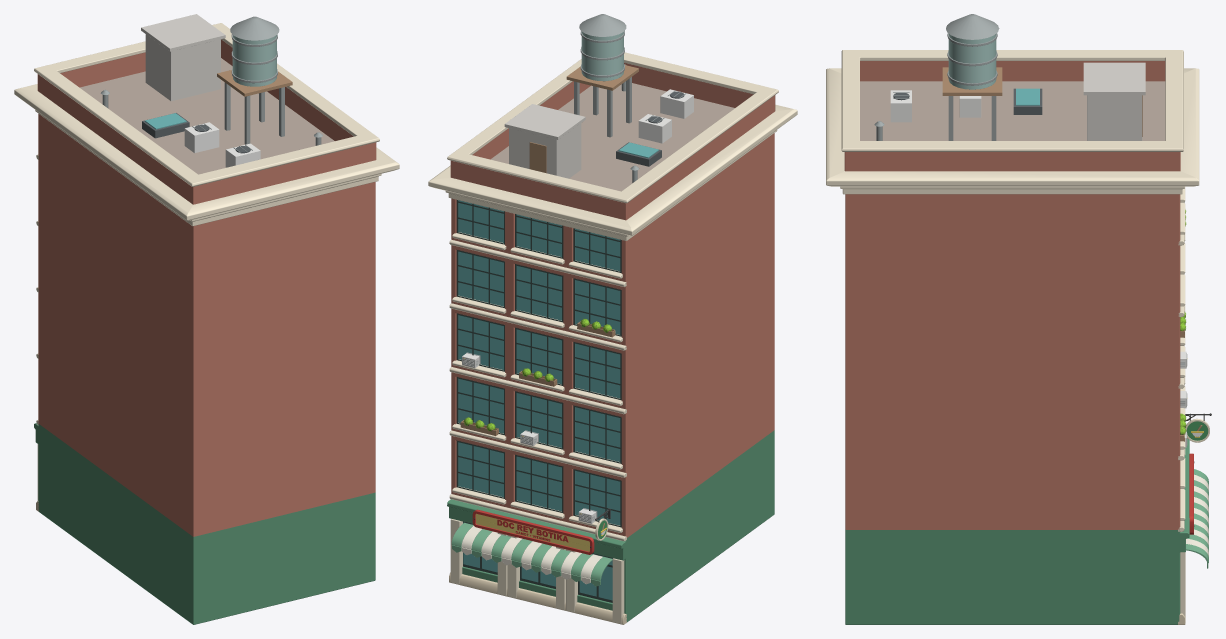
The model's file is loft_red_5.glb.
3 renders of one model, left to right at view 1: azimuth 30°, elevation 25°; view 2: azimuth 150°, elevation 25°; view 3: azimuth 270°, elevation 25°, orthographic. The views are drawn at different scales.
Visible parts, largest first — view 1: shell, trim, props; view 2: shell, trim, props, frames, awnings, sign_doc_rey_botika, foliage; view 3: shell, trim, props, awnings, blade_mortar.
Part boxes in pixels (bbox=[...]): shell: bbox=[38, 58, 375, 624]; trim: bbox=[14, 23, 399, 511]; props: bbox=[100, 14, 322, 167]; shell: bbox=[451, 83, 774, 622]; trim: bbox=[428, 52, 797, 624]; props: bbox=[460, 14, 693, 523]; frames: bbox=[456, 200, 621, 602]; awnings: bbox=[451, 522, 612, 586]; sign_doc_rey_botika: bbox=[472, 509, 594, 554]; foliage: bbox=[463, 318, 611, 431]; shell: bbox=[845, 81, 1180, 624]; trim: bbox=[826, 50, 1199, 624]; props: bbox=[874, 14, 1187, 447]; awnings: bbox=[1186, 469, 1208, 568]; blade_mortar: bbox=[1185, 413, 1211, 442].
Size of the model in its own units: 11.1 by 26.6 by 16.13.
24 materials, 2 textured.
